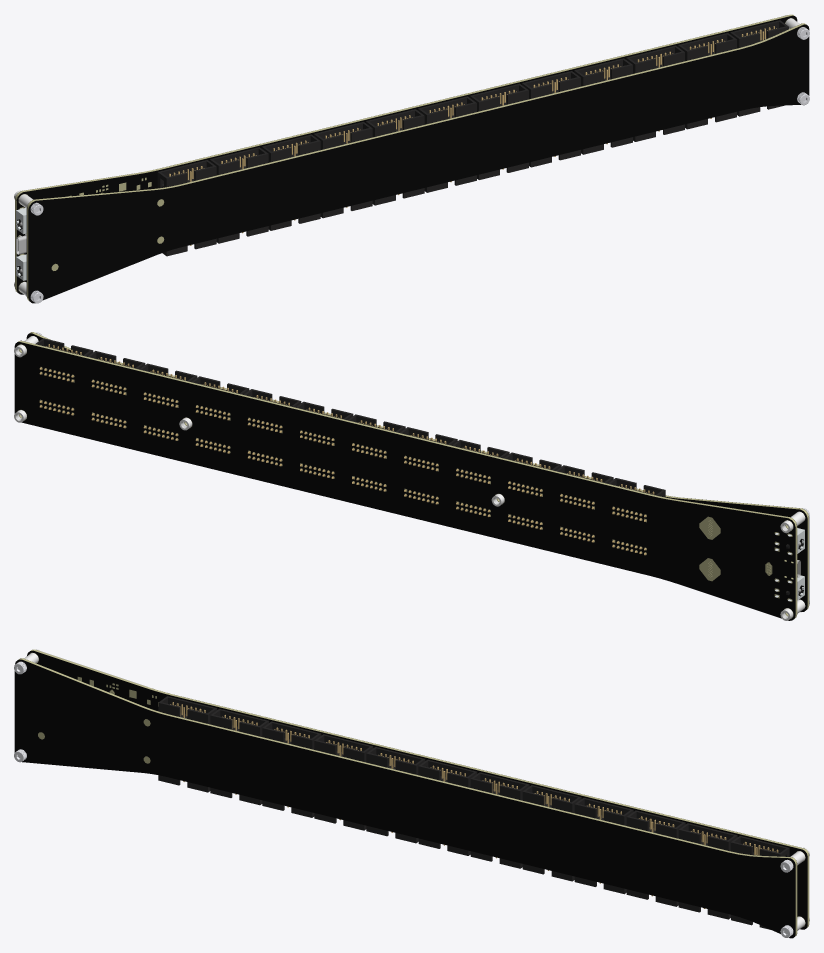
The model's file is decoy_max.glb.
3 views of the same model, one above another, from view 1: azimuth 30°, elevation 25°; view 2: azimuth 150°, elevation 25°; view 3: azimuth 330°, elevation 25° (orthographic).
Visible parts, largest first — view 1: Solid1 (×16); view 2: Solid1 (×16); view 3: Solid1 (×16).
Part boxes in pixels (x1,y1,x2,y2): Solid1 (×16): (15, 14, 809, 303); Solid1 (×16): (14, 332, 808, 620); Solid1 (×16): (14, 649, 809, 938).
Size of the model in its own units: 0.4386 by 0.055 by 0.0192.
